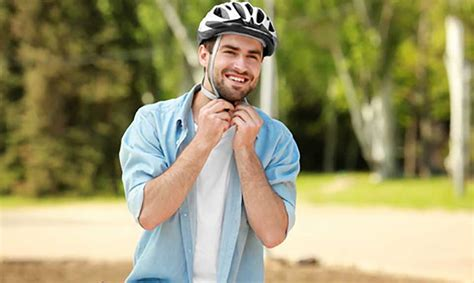com_capacete_bicicleta: (196, 1, 278, 105)
